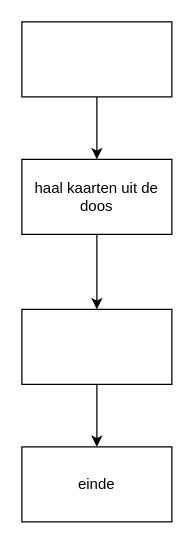
This 194x544 diagram has some shape labels left out. Each missing label, with the box of its shape:
schud de kaarten: (21, 308, 172, 384)
start: (21, 21, 172, 97)
